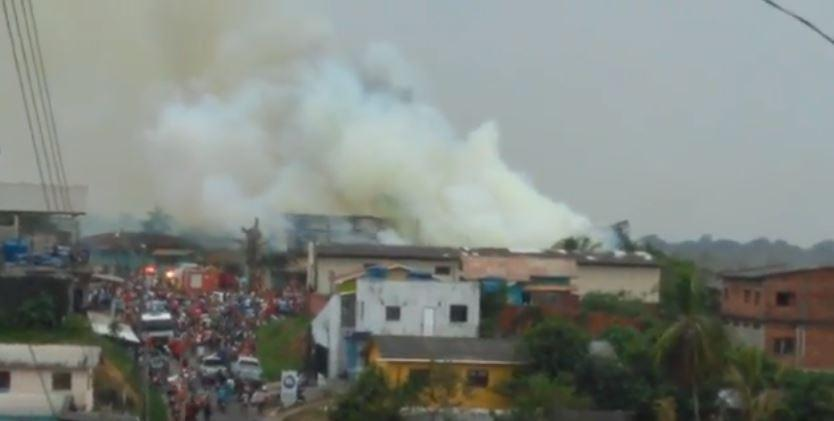smoke: (183, 101, 434, 211), (459, 172, 534, 246)
